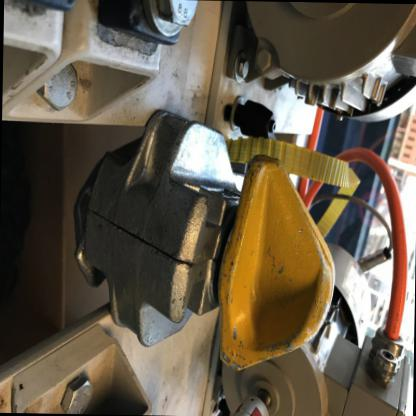Twistlock: (67, 106, 344, 374)
